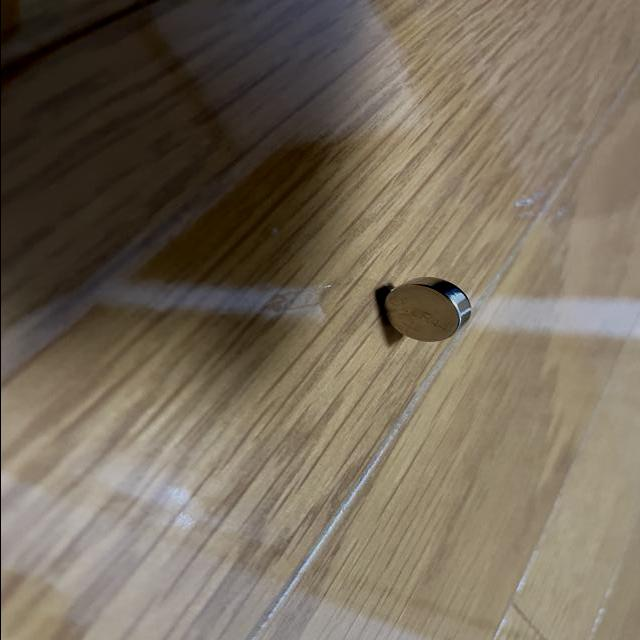COIN: (380, 275, 472, 342)
